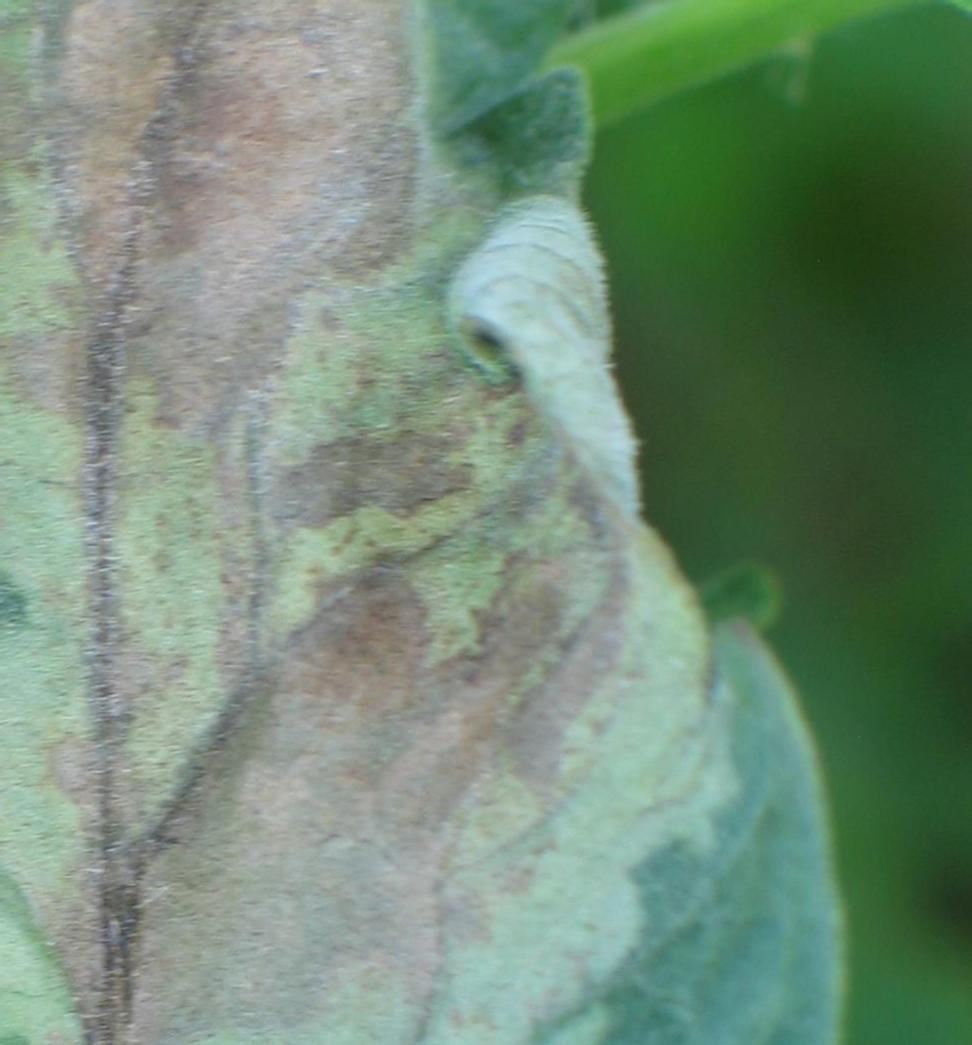Tomato leaf late blight: (0, 0, 969, 1045)
